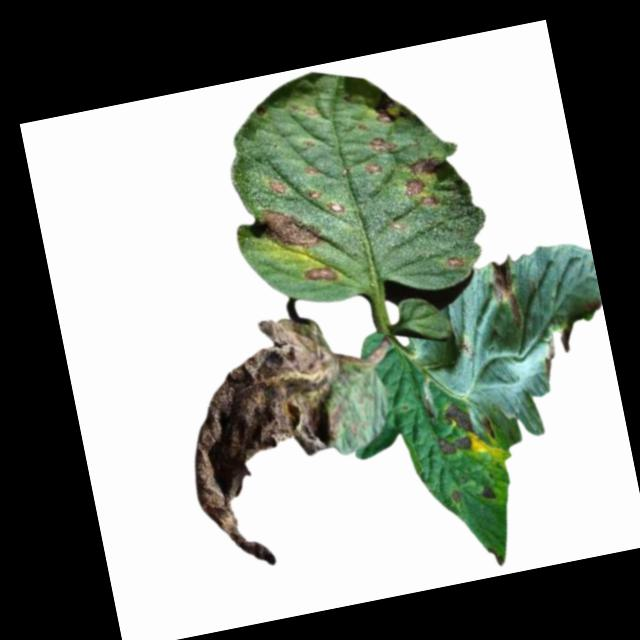Early_blight: (162, 309, 382, 582), (254, 205, 321, 257), (483, 257, 526, 332), (401, 156, 449, 215), (536, 329, 565, 384), (444, 397, 477, 435), (432, 431, 475, 458), (301, 263, 339, 288), (363, 134, 395, 158), (359, 159, 383, 179), (372, 105, 393, 126), (325, 199, 346, 217), (479, 484, 497, 504), (444, 252, 465, 269), (446, 487, 464, 506), (266, 178, 284, 196), (305, 188, 322, 201), (303, 167, 315, 179)
